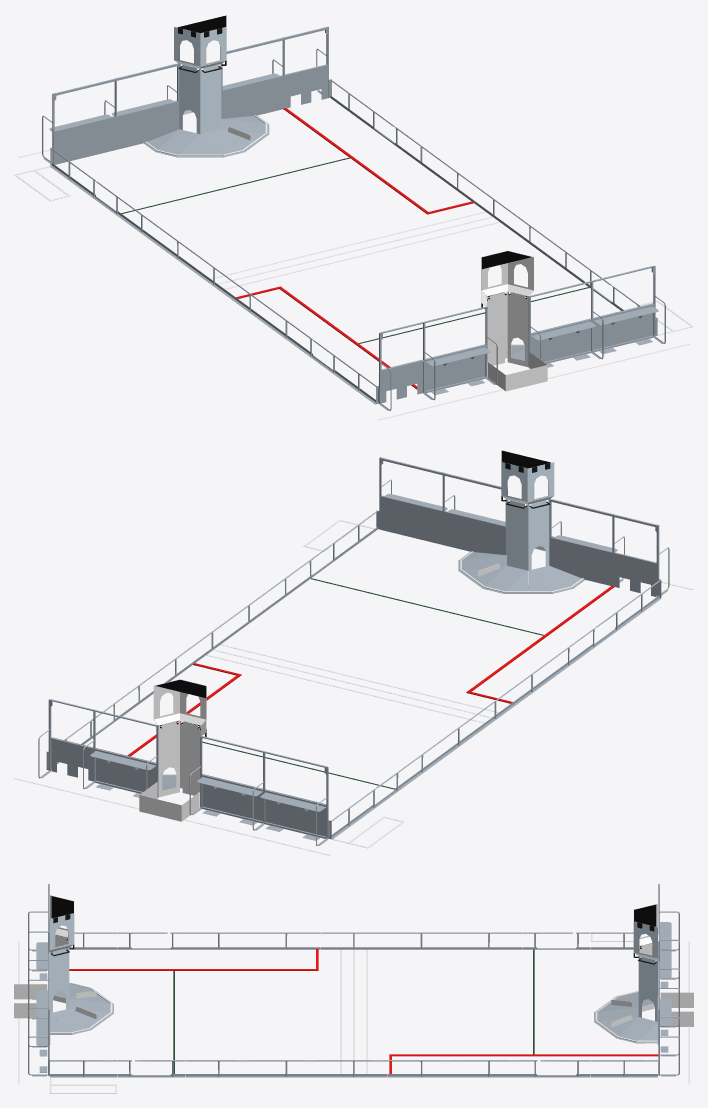
The model's file is fieldmodel.obj.
3 views of the same model, one above another, from view 1: azimuth 30°, elevation 25°; view 2: azimuth 150°, elevation 25°; view 3: azimuth 270°, elevation 25° (orthographic). The views are drawn at different scales.
Visible parts, largest first — view 1: 589, 377, 577, 190, 13, 225, 165, 213, 369, 5, 247, 537; view 2: 225, 213, 13, 589, 577, 554, 377, 498, 5, 369, 611, 173 (+2 smaller); view 3: 615, 259, 142, 475, 613, 619, 248, 255, 277, 641, 265, 643 (+3 smaller).
Part boxes in pixels (bbox=[...]): 589: bbox=[53, 117, 116, 164]; 377: bbox=[221, 76, 284, 118]; 577: bbox=[116, 102, 178, 149]; 190: bbox=[487, 291, 507, 365]; 13: bbox=[425, 354, 485, 390]; 225: bbox=[593, 313, 653, 349]; 165: bbox=[507, 292, 528, 367]; 213: bbox=[531, 328, 590, 361]; 369: bbox=[285, 66, 326, 108]; 5: bbox=[381, 362, 422, 402]; 247: bbox=[506, 365, 547, 391]; 537: bbox=[201, 64, 221, 133]; 225: bbox=[380, 497, 443, 544]; 213: bbox=[443, 512, 506, 554]; 13: bbox=[550, 538, 612, 585]; 589: bbox=[265, 799, 326, 836]; 577: bbox=[202, 784, 262, 821]; 554: bbox=[180, 721, 200, 795]; 377: bbox=[95, 758, 156, 791]; 498: bbox=[158, 720, 179, 797]; 5: bbox=[614, 554, 656, 596]; 369: bbox=[51, 740, 92, 781]; 611: bbox=[139, 795, 181, 821]; 173: bbox=[507, 505, 527, 569]; 615: bbox=[616, 1017, 657, 1042]; 259: bbox=[50, 1009, 90, 1034]; 142: bbox=[50, 951, 66, 1012]; 475: bbox=[639, 960, 655, 1017]; 613: bbox=[660, 992, 693, 1007]; 619: bbox=[594, 1007, 638, 1021]; 248: bbox=[14, 984, 47, 999]; 255: bbox=[69, 999, 113, 1013]; 277: bbox=[51, 896, 73, 918]; 641: bbox=[634, 904, 656, 926]; 265: bbox=[69, 1008, 113, 1029]; 643: bbox=[594, 1017, 638, 1038].
Size of the model in its own units: 408 by 120 by 727.
